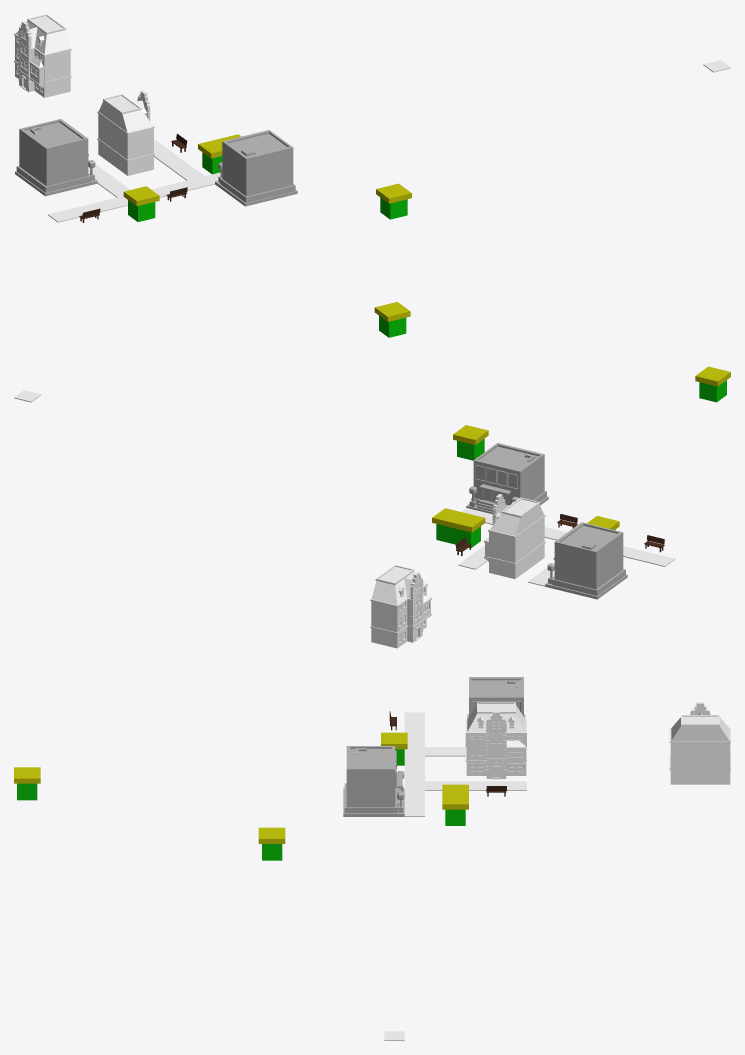
File: PreAlpha.fbx
3 views of the same model, one above another, from view 1: azimuth 30°, elevation 25°; view 2: azimuth 150°, elevation 25°; view 3: azimuth 270°, elevation 25° (orthographic).
Parts seen in each view (by area): view 1: Store (×2), Main-2-1 (×2); view 2: Store (×2), Main-2-1 (×2), Cube.001 (×3); view 3: Main-2-1 (×2), Store (×2).
Boxes of the visible parts, x1,y1,x2,y2 form: Store (×2): (15, 119, 297, 206); Main-2-1 (×2): (14, 14, 154, 175); Store (×2): (466, 443, 627, 599); Main-2-1 (×2): (370, 494, 545, 648); Cube.001 (×3): (449, 366, 730, 532); Main-2-1 (×2): (465, 702, 730, 784); Store (×2): (343, 677, 526, 816).
Size of what is drawn, in the model's own units: 38 by 4.08 by 35.15.
